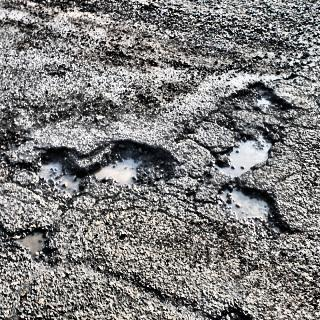crack: (196, 304, 258, 320)
pothole: (190, 83, 290, 244), (21, 126, 170, 210), (9, 222, 53, 255)
